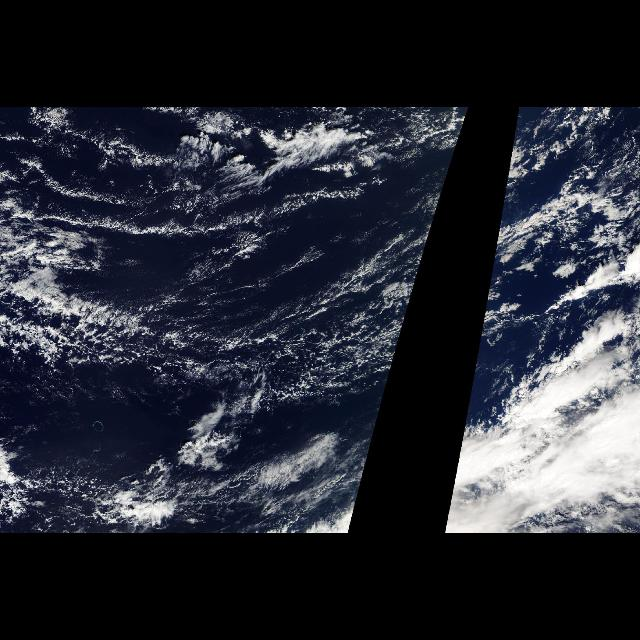Fish: (2, 196, 160, 372)
Gravel: (172, 255, 384, 407)
